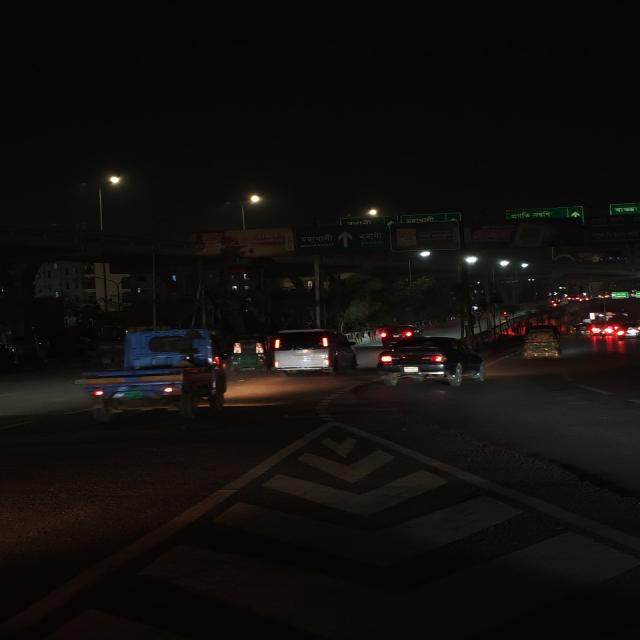car: (375, 335, 490, 387), (268, 328, 357, 377), (375, 324, 419, 342), (588, 322, 610, 337), (616, 326, 639, 339)
cng: (229, 335, 268, 371)
pickup_van: (75, 324, 230, 422)
truck: (519, 324, 565, 362)
